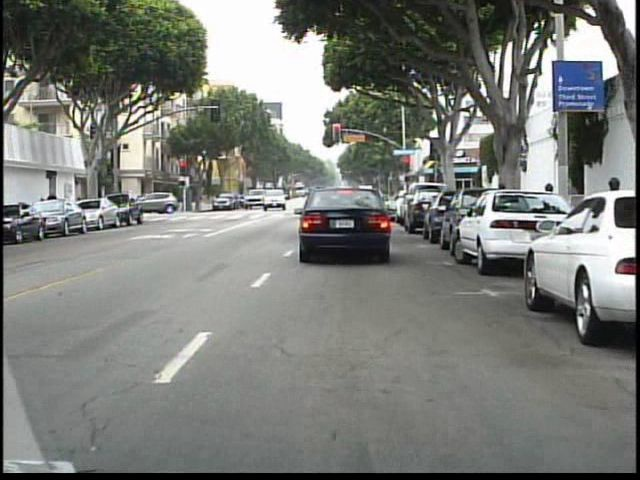person: (44, 188, 61, 227), (144, 190, 159, 218)
